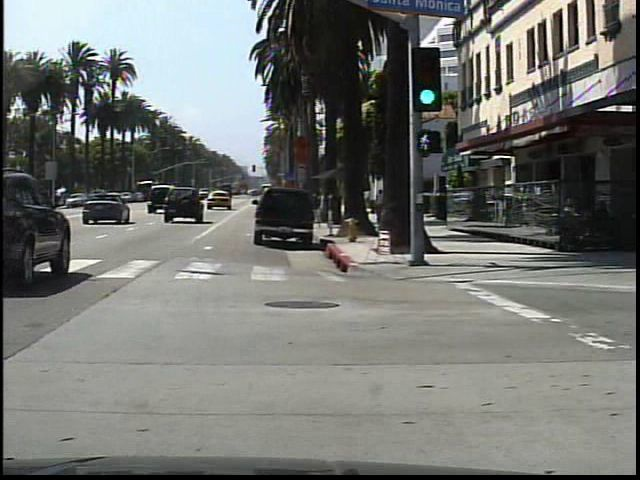person: (375, 185, 387, 227)
